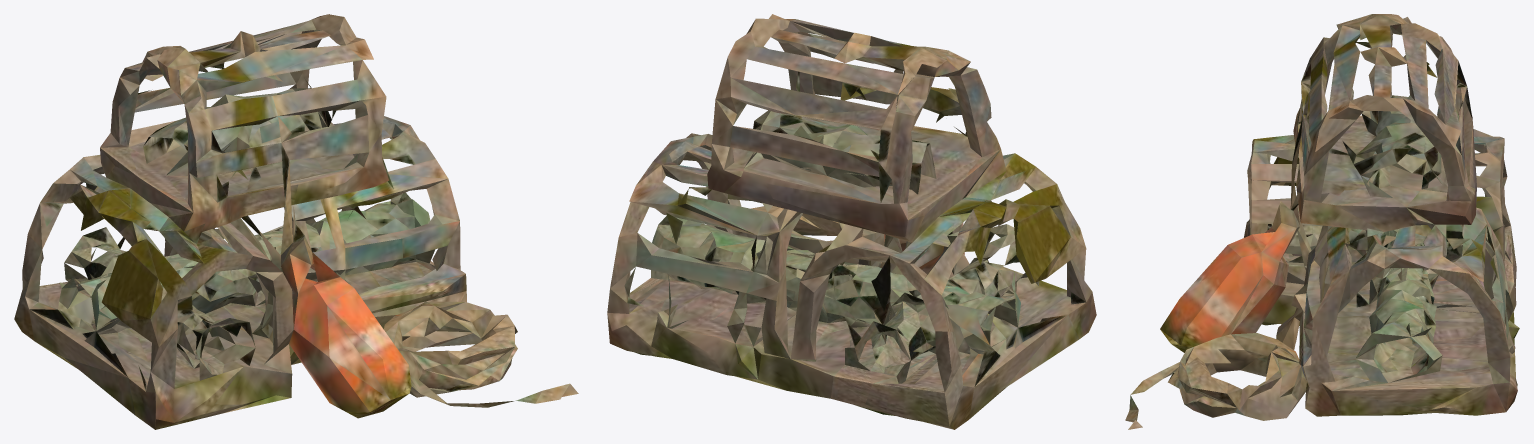
The model's file is prop_lobster.glb.
3 renders of one model, left to right at view 1: azimuth 30°, elevation 25°; view 2: azimuth 150°, elevation 25°; view 3: azimuth 270°, elevation 25°, orthographic. The views are drawn at different scales.
Bounding box in the file's own units: 1.84 × 1.52 × 1.82.
1 material, 1 textured.
